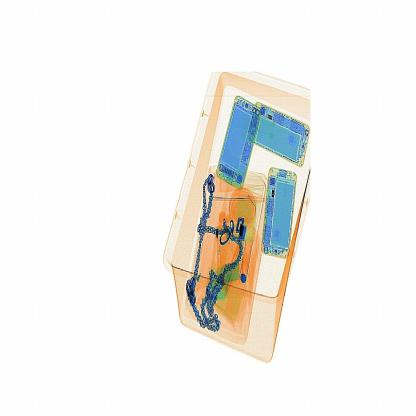wrench: (210, 194, 268, 212)
